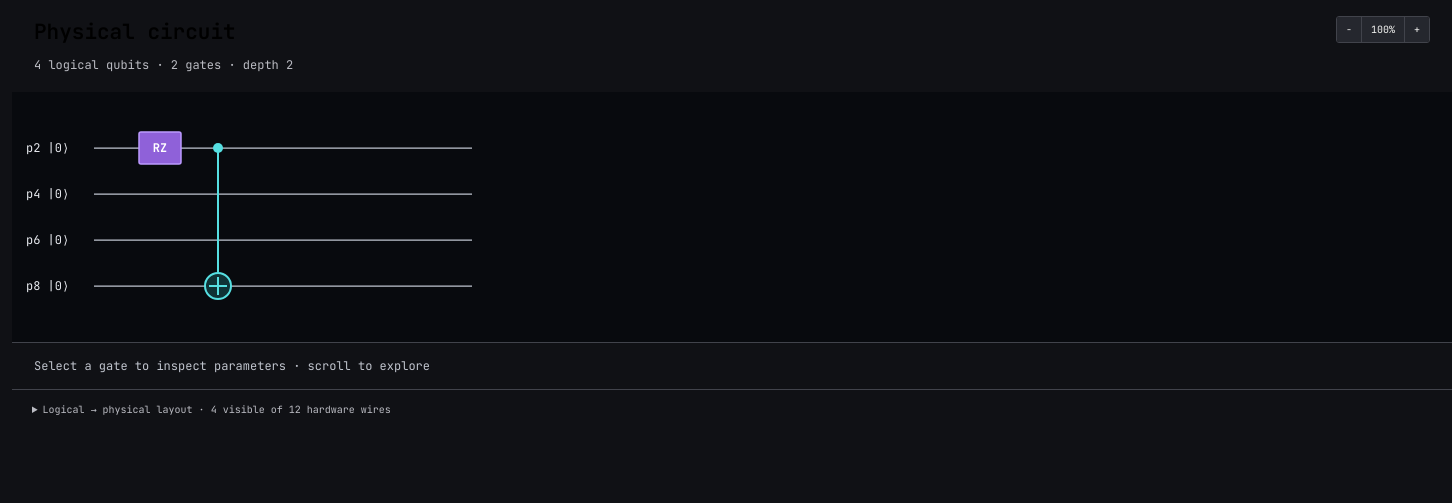
Test case: circuit interactions › zooms, inspects gate parameters by keyboard, and retains physical labels
The width and height of the screenshot is (1452, 503).
Expected: the text "p8 |0⟩" is shown, [26,278,69,294]
Click the button named "Zoom in Physical circuit" at [1416, 30], box [1404,17,1429,42]
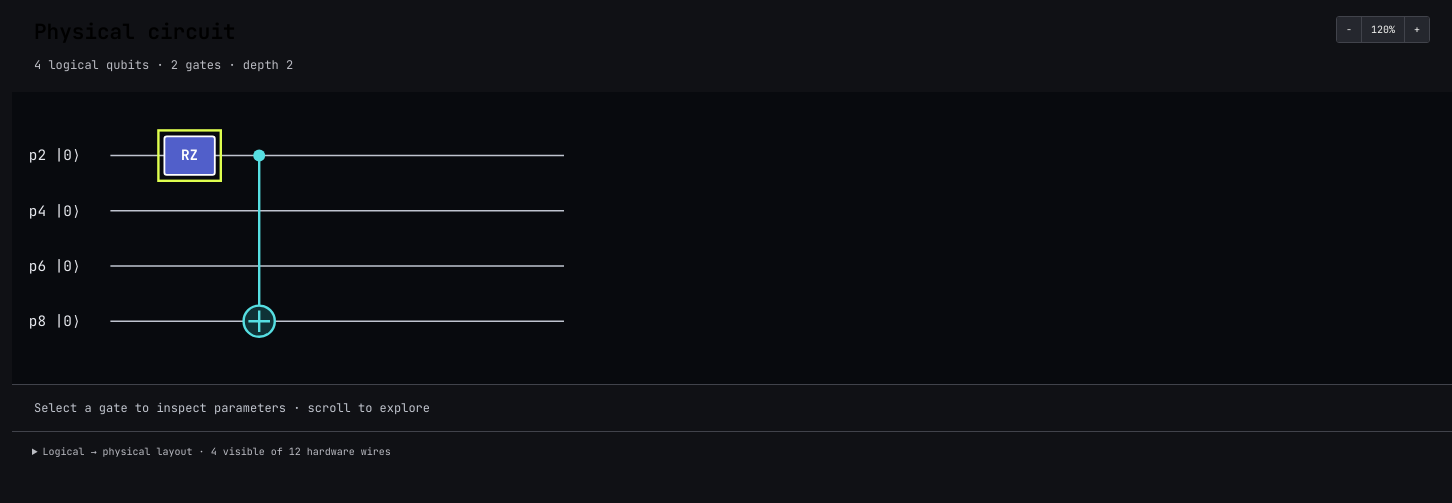
Result: the button "120%" is shown at [1361,17,1404,42]
Press Enter
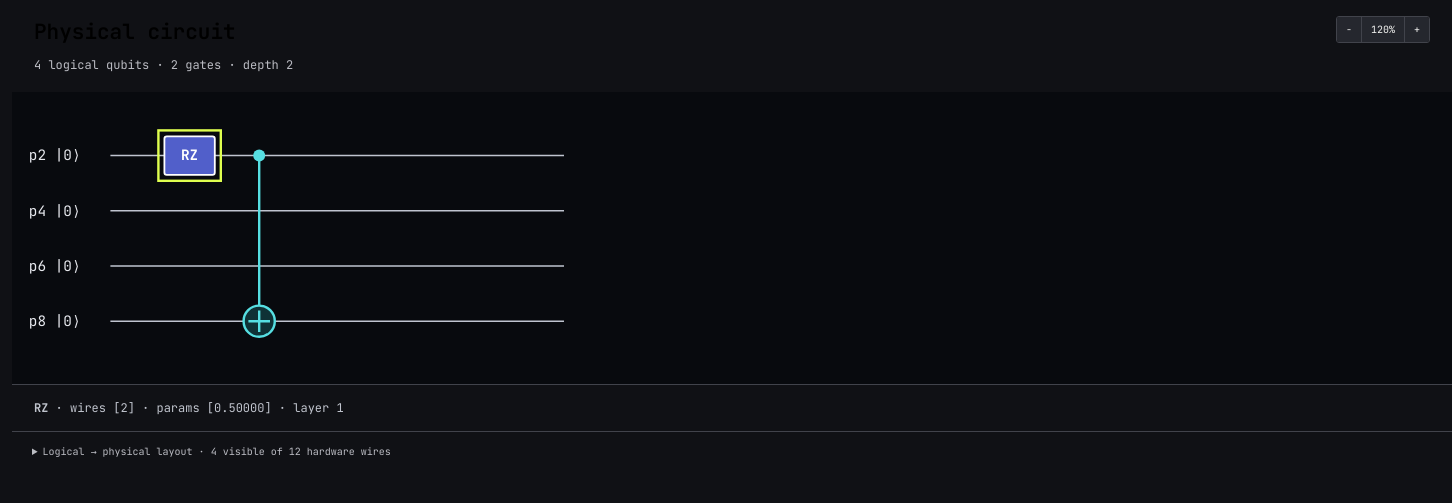
Result: the text "RZ · wires [2] · params [0.50000] · layer 1" is shown at [34,400,344,416]
Click the heading "Logical → physical layout · 4 visible of 12 hardware wires" at [217, 452], box [43,445,391,458]
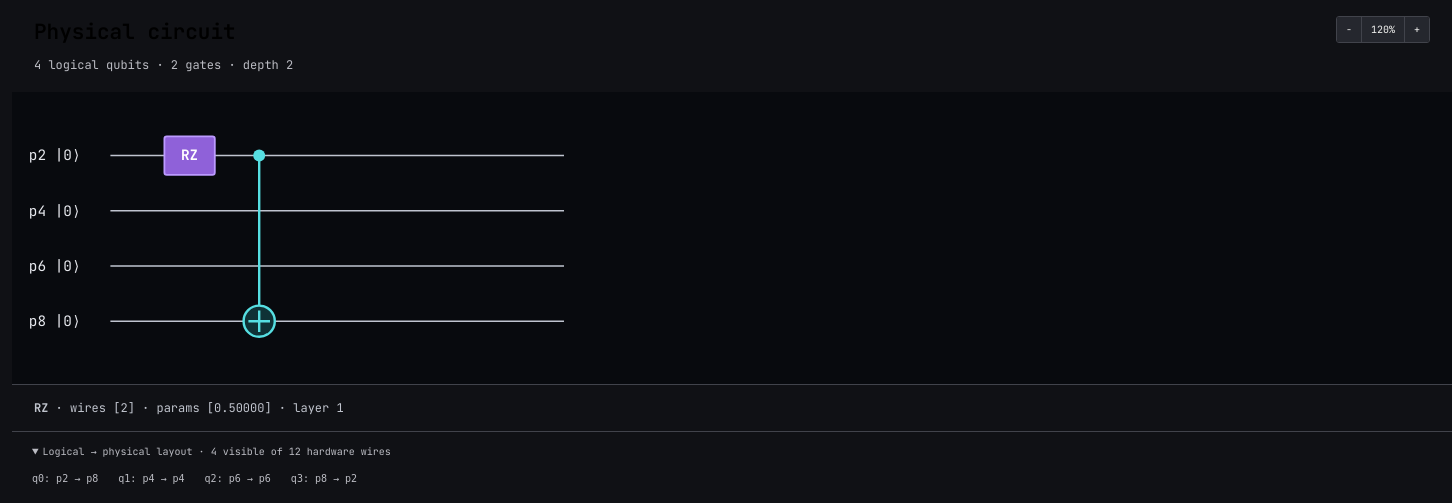
Result: the text "q0: p2 → p8" is shown at [32,471,98,486]
